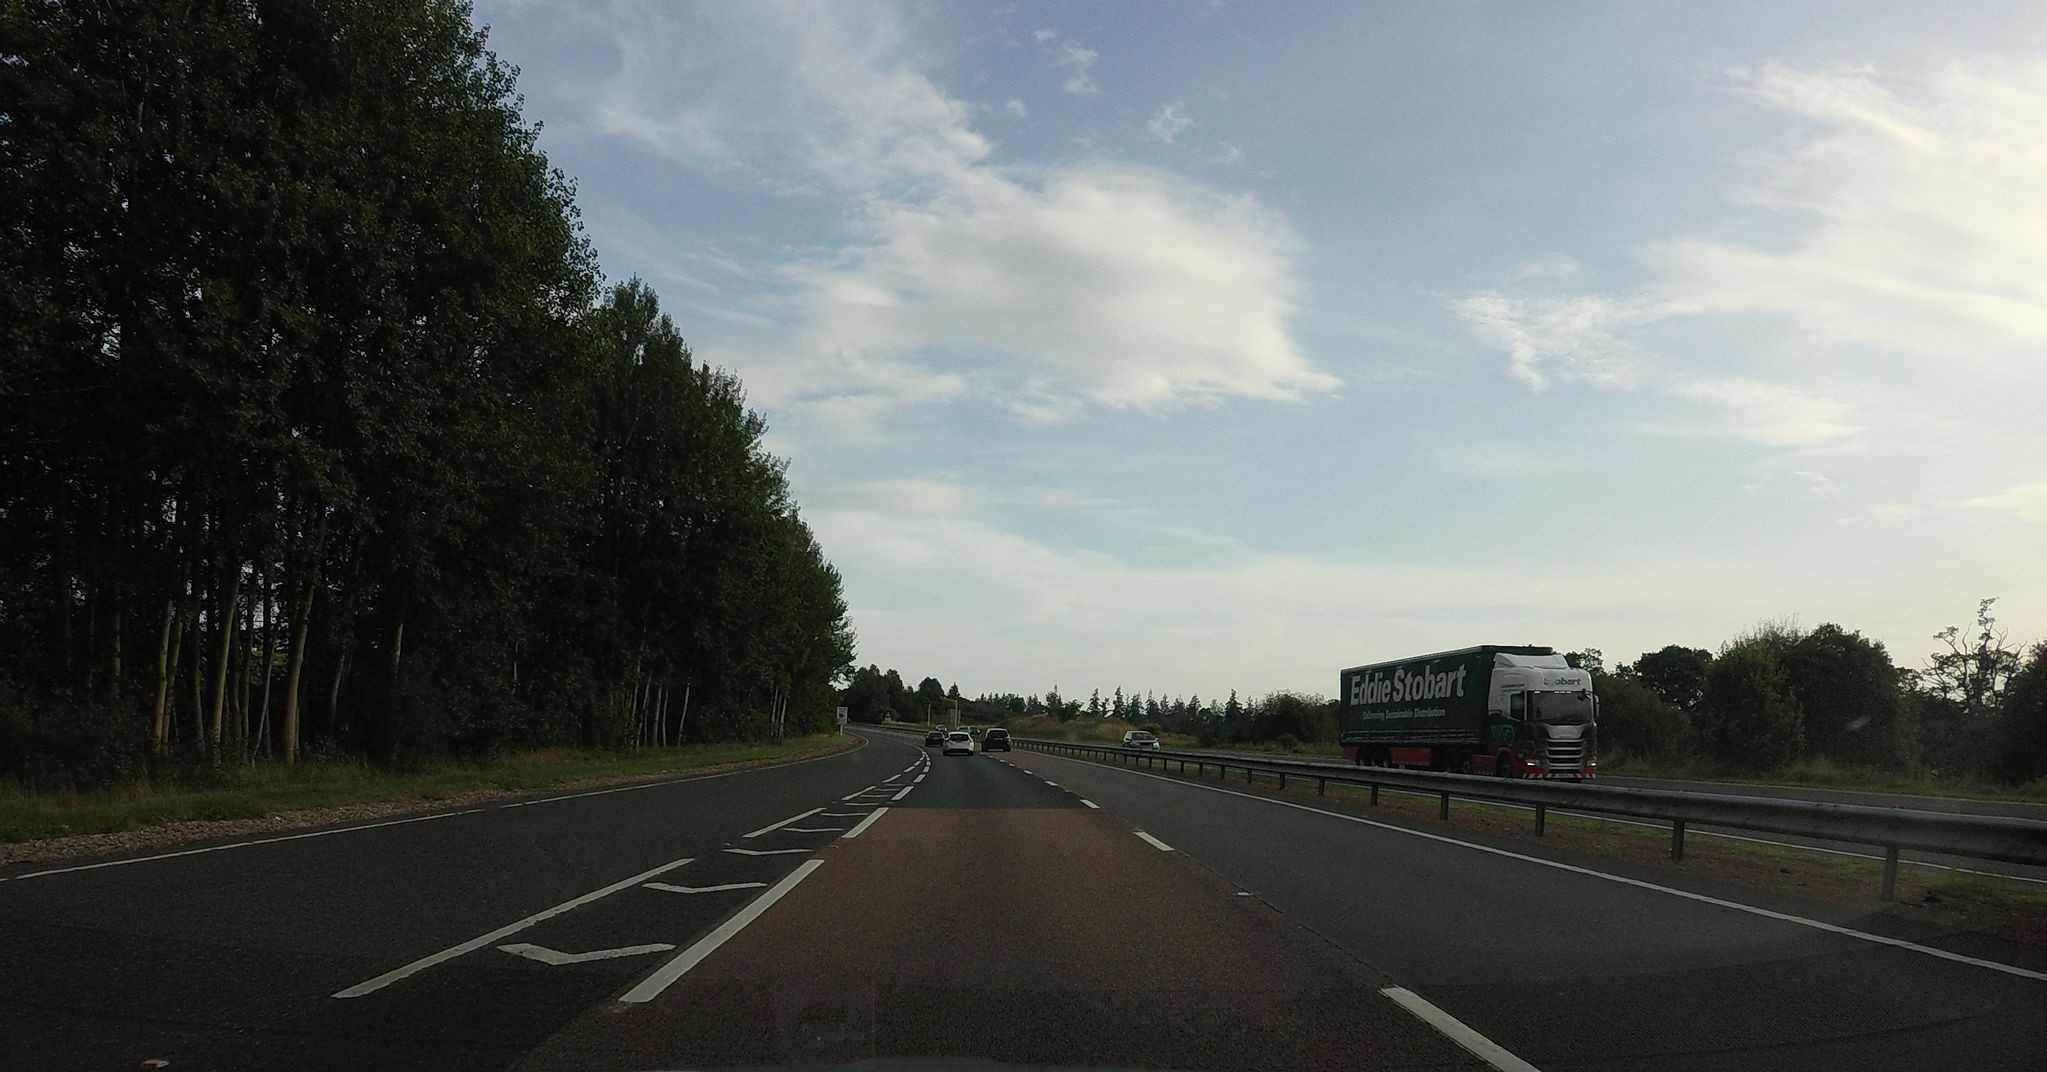car: (1120, 730, 1160, 753), (980, 725, 1011, 753), (942, 730, 975, 755), (923, 730, 945, 747)
truck: (1338, 646, 1603, 786)
